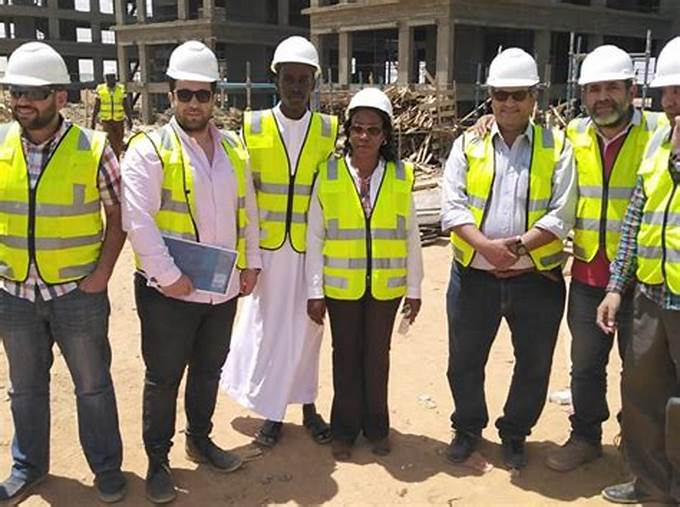Helmet: (157, 35, 228, 139), (1, 38, 73, 140), (478, 44, 545, 140), (263, 29, 326, 126), (572, 41, 638, 129), (342, 85, 399, 174), (644, 31, 680, 131)
Reflective vest: (131, 124, 252, 280), (1, 116, 110, 288), (454, 120, 567, 271), (239, 107, 343, 256), (314, 156, 416, 303), (566, 113, 650, 260), (633, 120, 680, 295), (95, 82, 127, 125)
